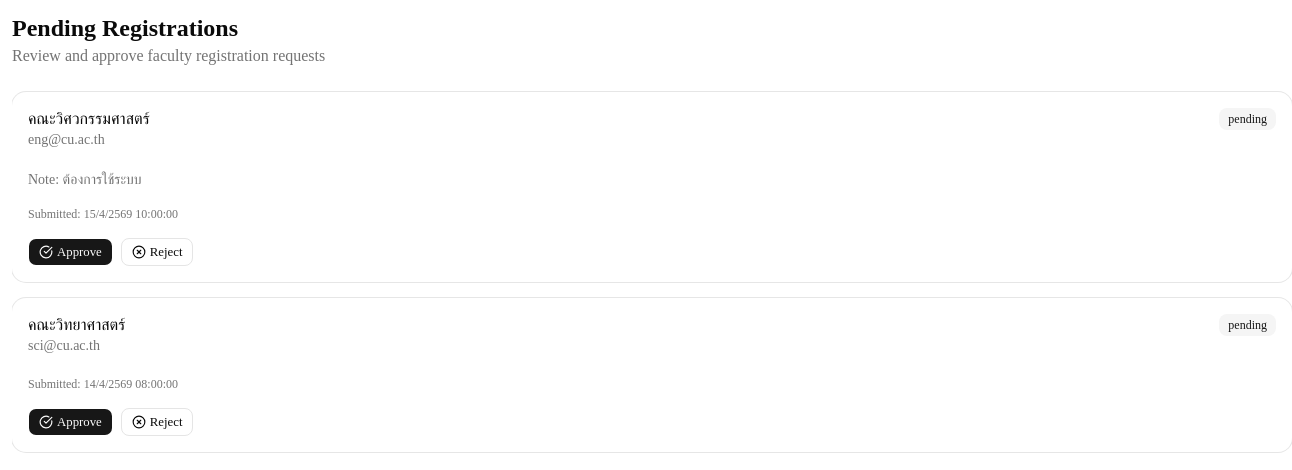
RegistrationsPage › approves a registration and removes it from the list
Expected: the text "คณะวิศวกรรมศาสตร์" is shown, [28, 108, 150, 130]
# Find the row for the first registration and click approve
Step 1. Click the button "Approve" below "15/4/2569 10:00:00" → point(70, 252), box [28, 238, 113, 266]
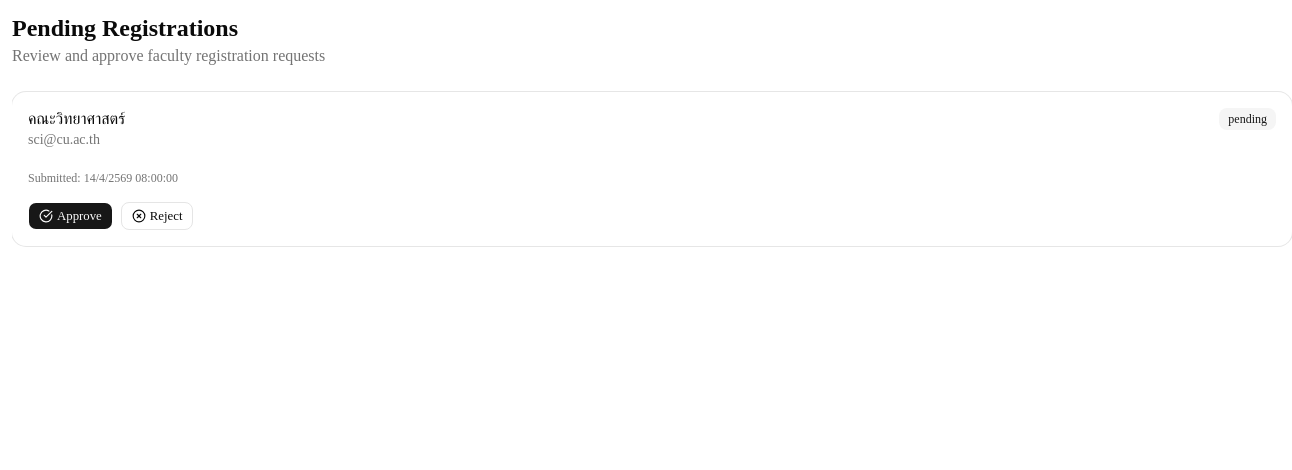
Expected: the text "คณะวิศวกรรมศาสตร์" is gone
